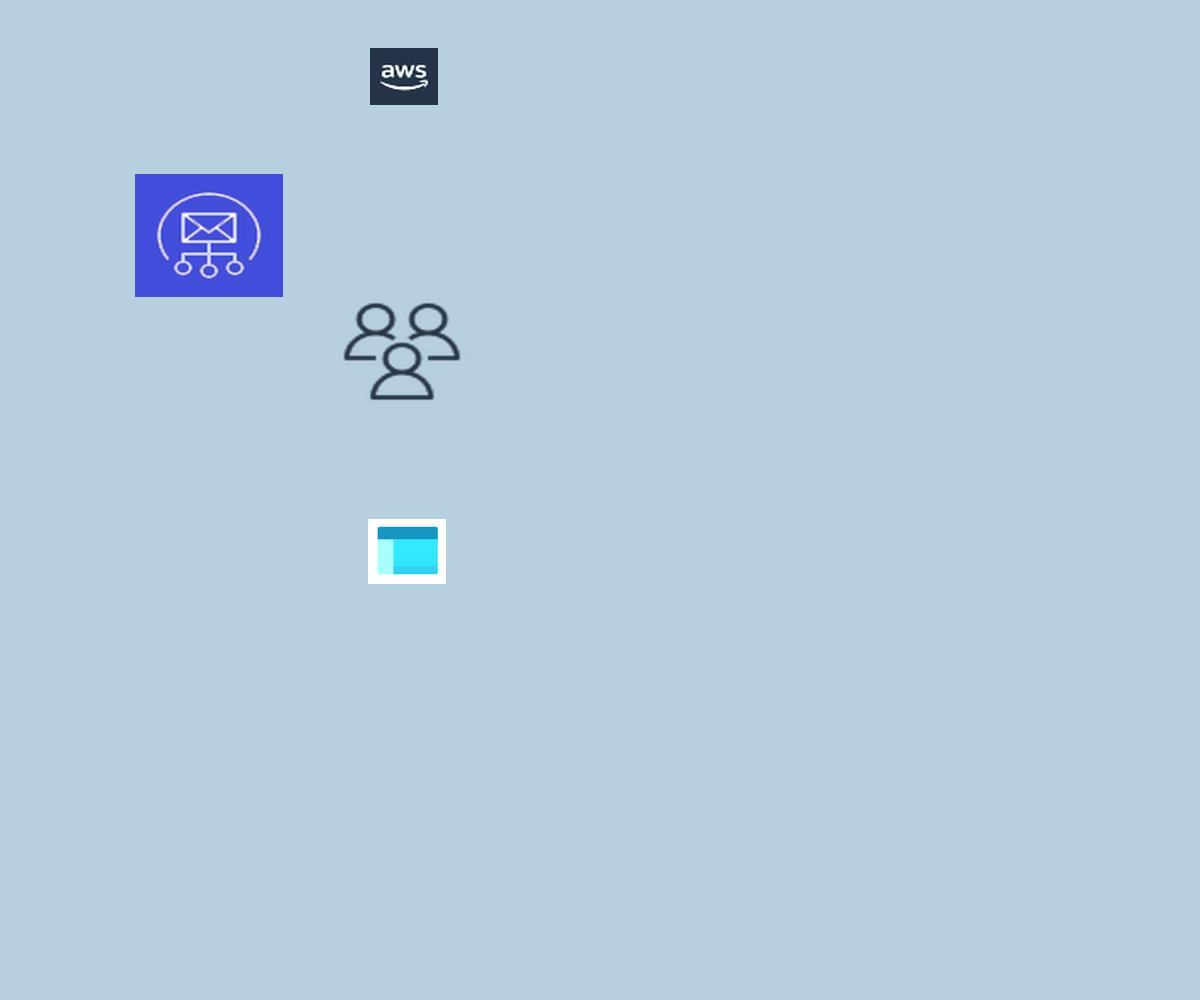AWS-Cloud-logo: (370, 48, 438, 105)
AWS-Res_Users: (339, 299, 465, 404)
AWS-Simple-Email-Service: (135, 174, 283, 297)
Azure_management-portal: (368, 519, 446, 584)
